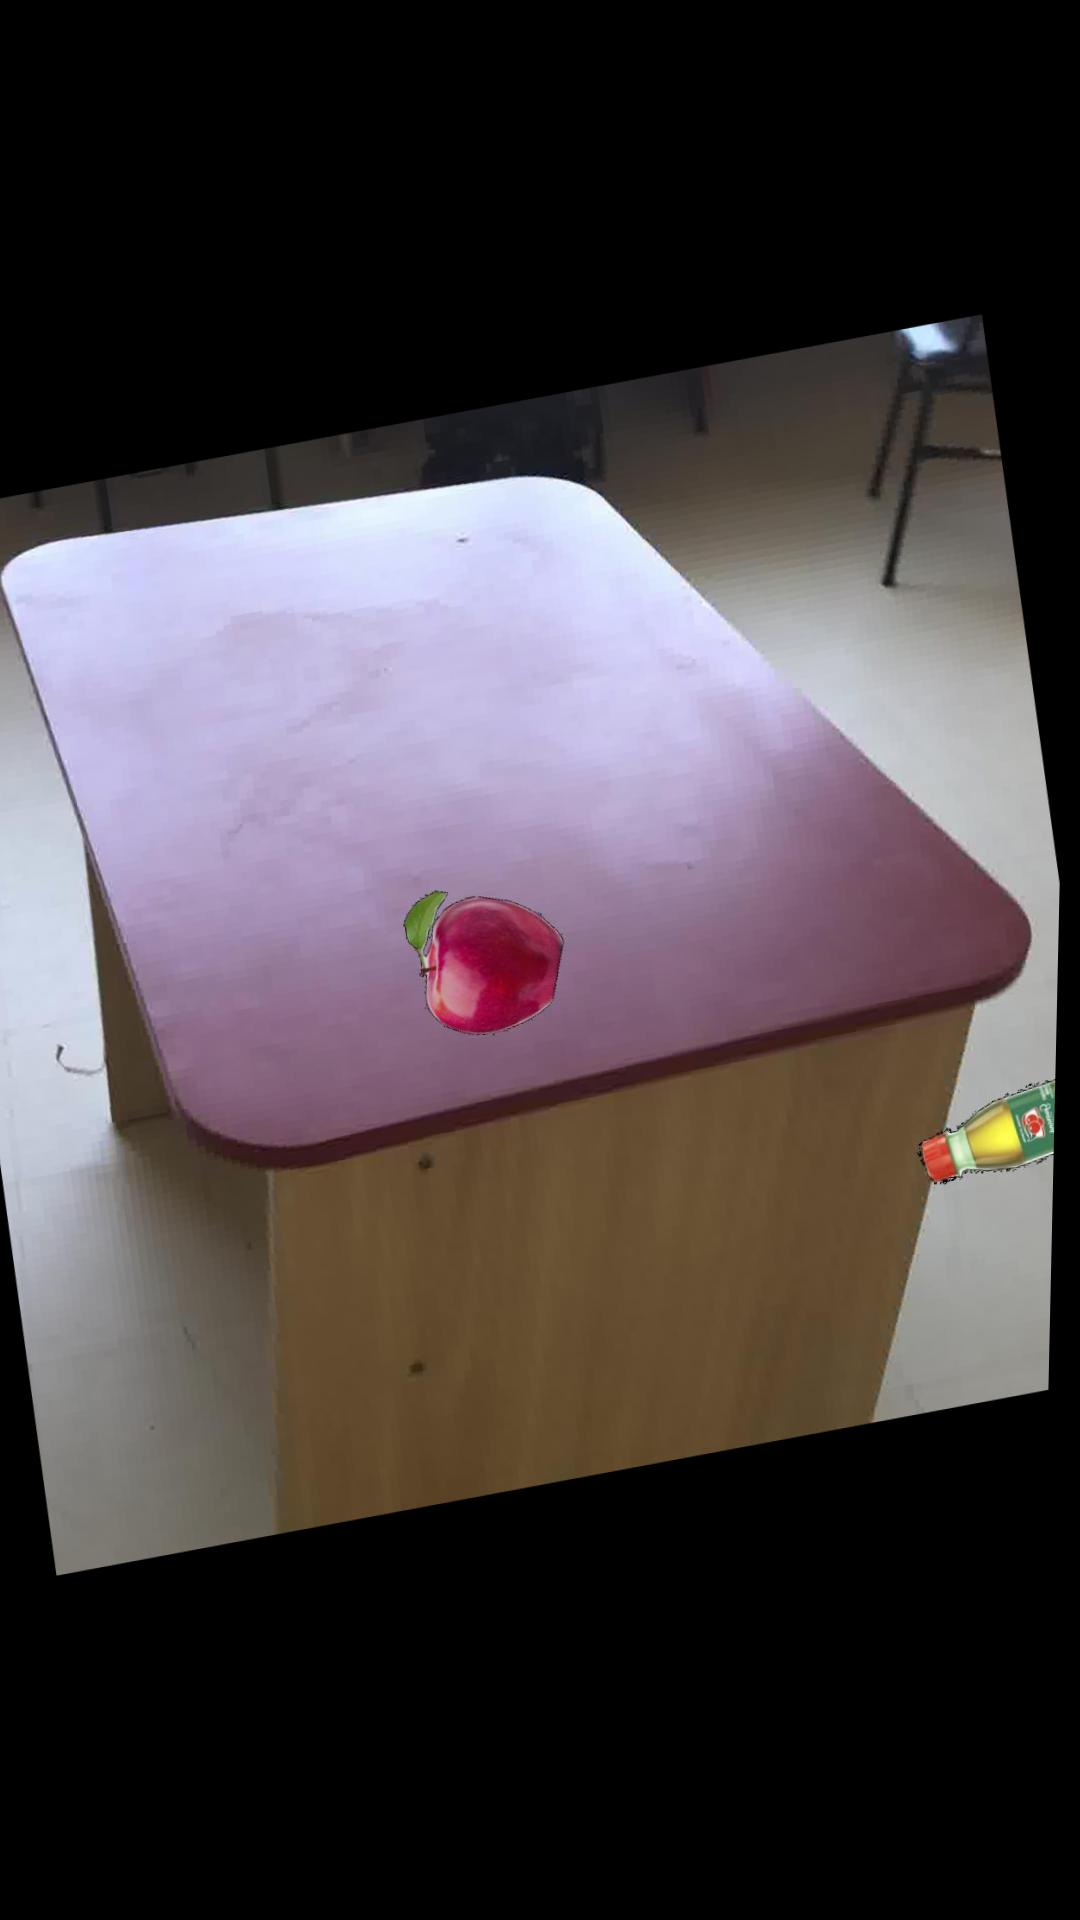apple: (406, 894, 567, 1038)
guarana: (922, 1085, 1060, 1191)
